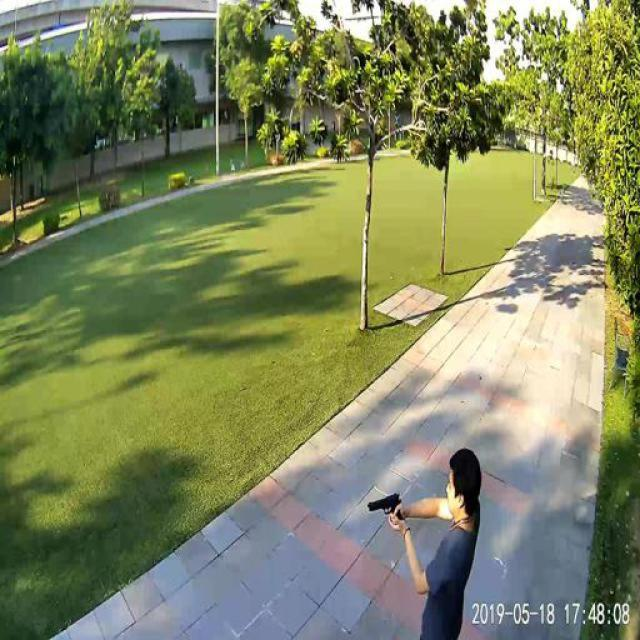weapon: (366, 492, 404, 528)
